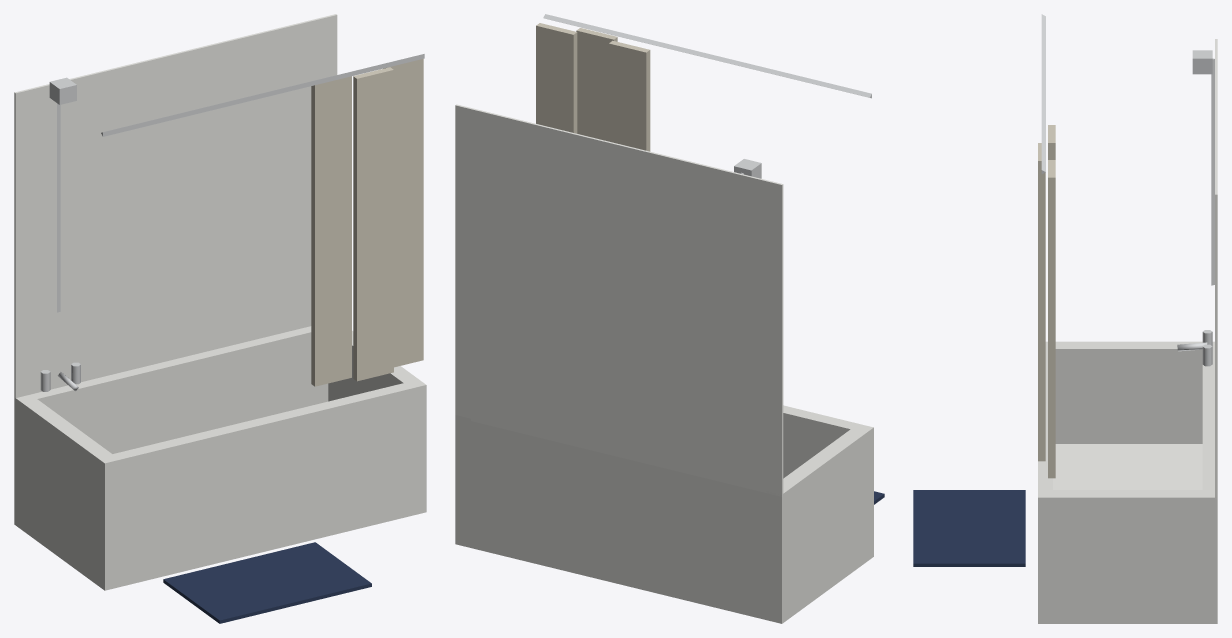
File: bath.glb
3 views of the same model, side by side, from view 1: azimuth 30°, elevation 25°; view 2: azimuth 150°, elevation 25°; view 3: azimuth 270°, elevation 25° (orthographic). The views are drawn at different scales.
Visible parts, largest first — view 1: bath; view 2: bath; view 3: bath.
Boxes of the visible parts, x1=… form: bath: x1=14, y1=14, x2=426, y2=623; bath: x1=455, y1=14, x2=884, y2=623; bath: x1=913, y1=14, x2=1217, y2=623.
Bounding box in the file's own units: 1.49 × 2.01 × 1.22.
Materials: 1 (1 with a texture image).
